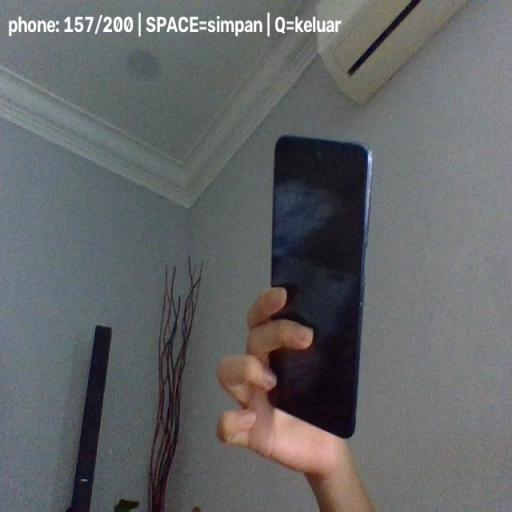Phone: (266, 134, 374, 438)
